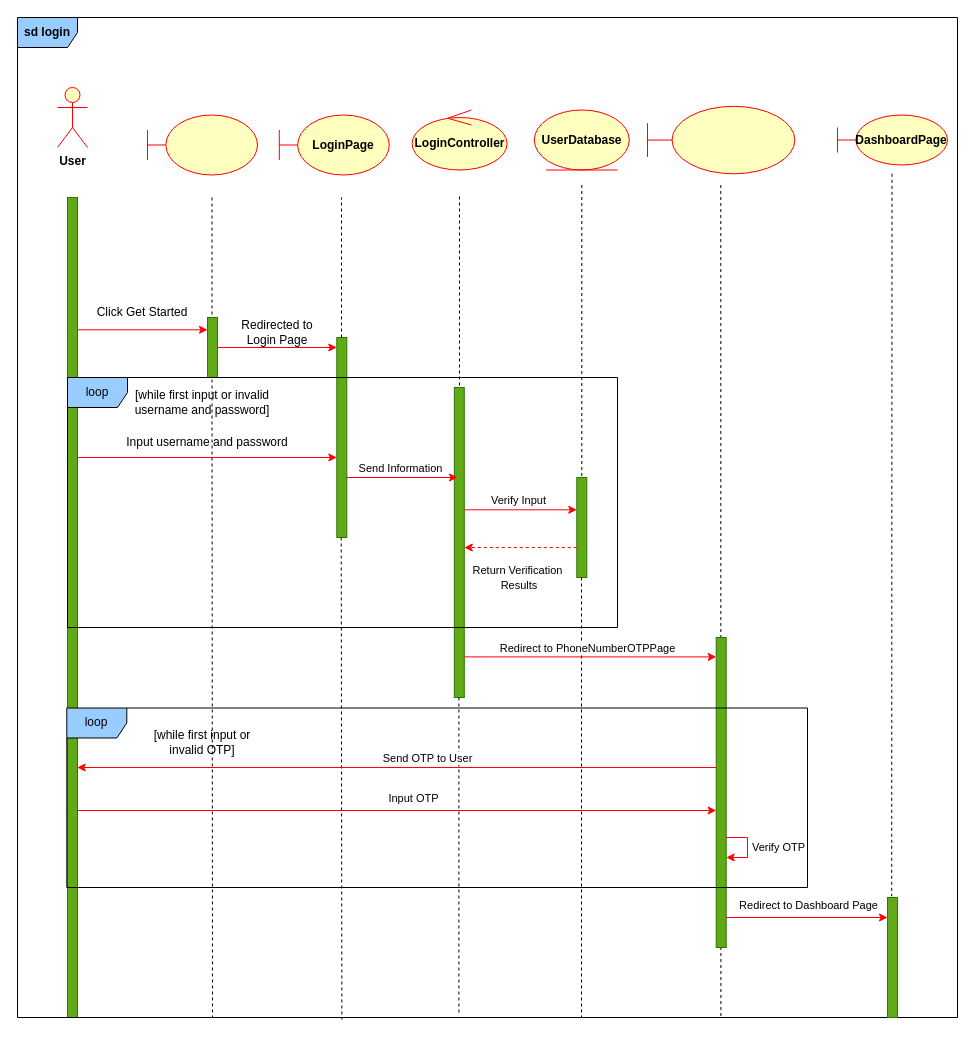
Some shapes in this 975 by 1038 pixel diagram are drawn without their labels. The centre of each missing label's shape, as x and y in pixels:
LandingPage: [202,144]
PhoneNumberOTP Page: [720,139]
